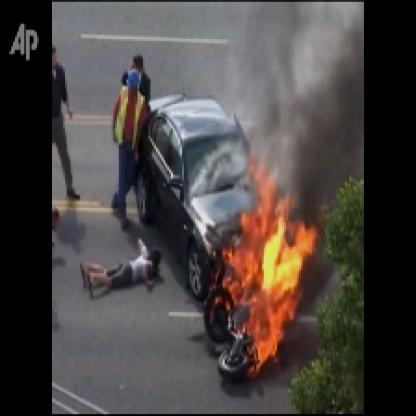Fire: (201, 146, 312, 380)
Smoke: (236, 2, 362, 173)
